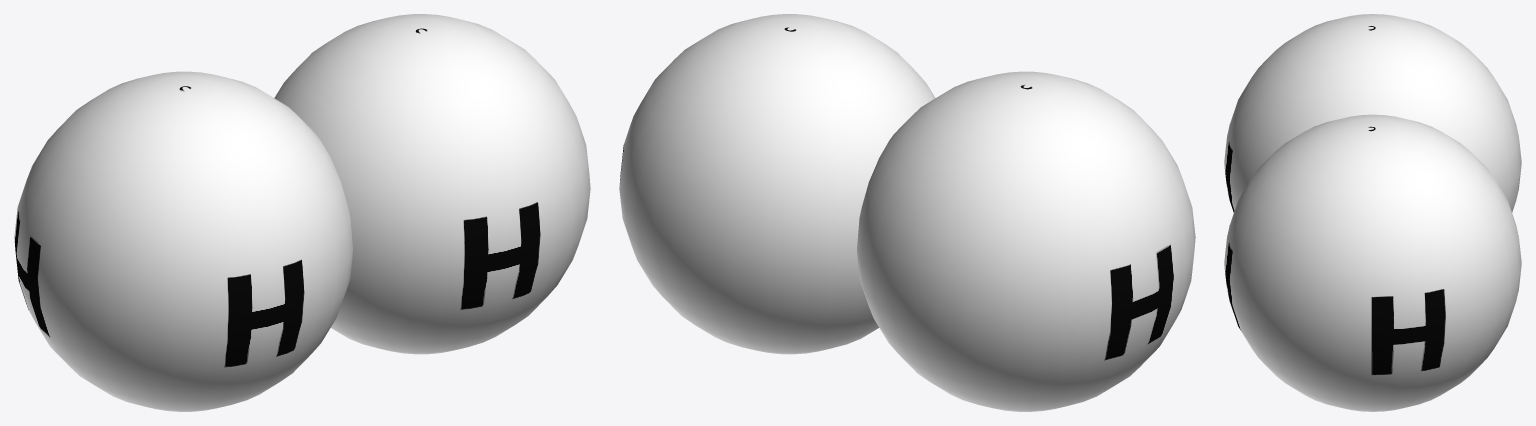
3 views of the same model, side by side, from view 1: azimuth 30°, elevation 25°; view 2: azimuth 150°, elevation 25°; view 3: azimuth 270°, elevation 25° (orthographic). The views are drawn at different scales.
Visible parts, largest first — view 1: H2; view 2: H2; view 3: H2.
Part boxes in pixels (box(x1,y1,x2,y2)): H2: box(14, 14, 590, 411); H2: box(619, 14, 1195, 411); H2: box(1224, 14, 1521, 411).
Bounding box in the file's own units: 360 × 200 × 200.
Materials: 1 (1 with a texture image).
